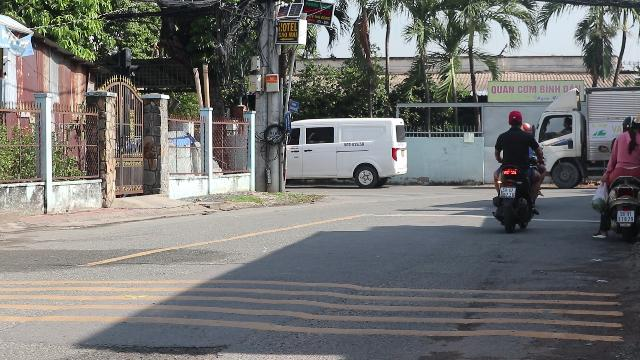helmet: (621, 116, 639, 132)
licenseplate: (617, 210, 633, 221), (500, 187, 516, 197)
motorcyclist: (488, 109, 544, 231), (590, 114, 640, 242)
nohelmet: (506, 110, 524, 128)
